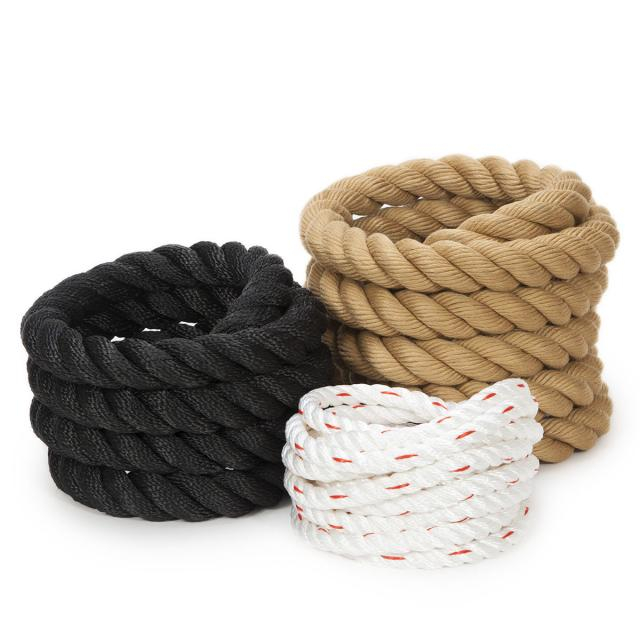Rope: (296, 143, 616, 464), (278, 376, 552, 574)
